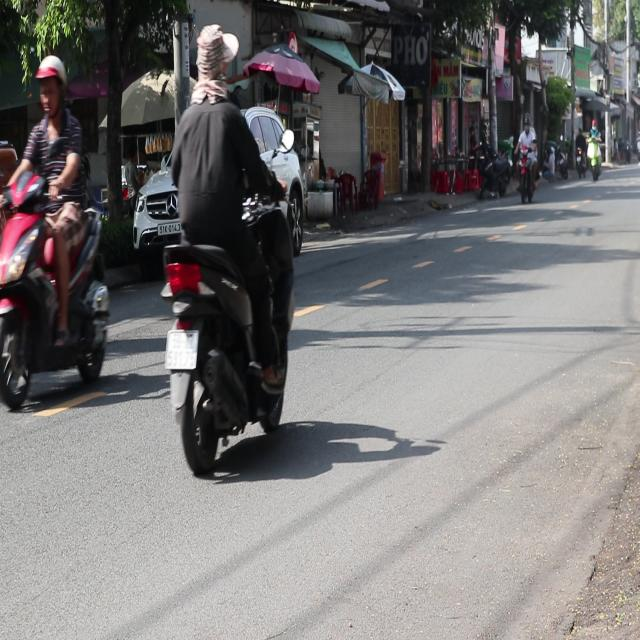helmet: (192, 23, 237, 95), (34, 54, 68, 121)
licenseplate: (156, 19, 300, 476), (0, 51, 113, 411)
nohelmet: (165, 329, 197, 368)
